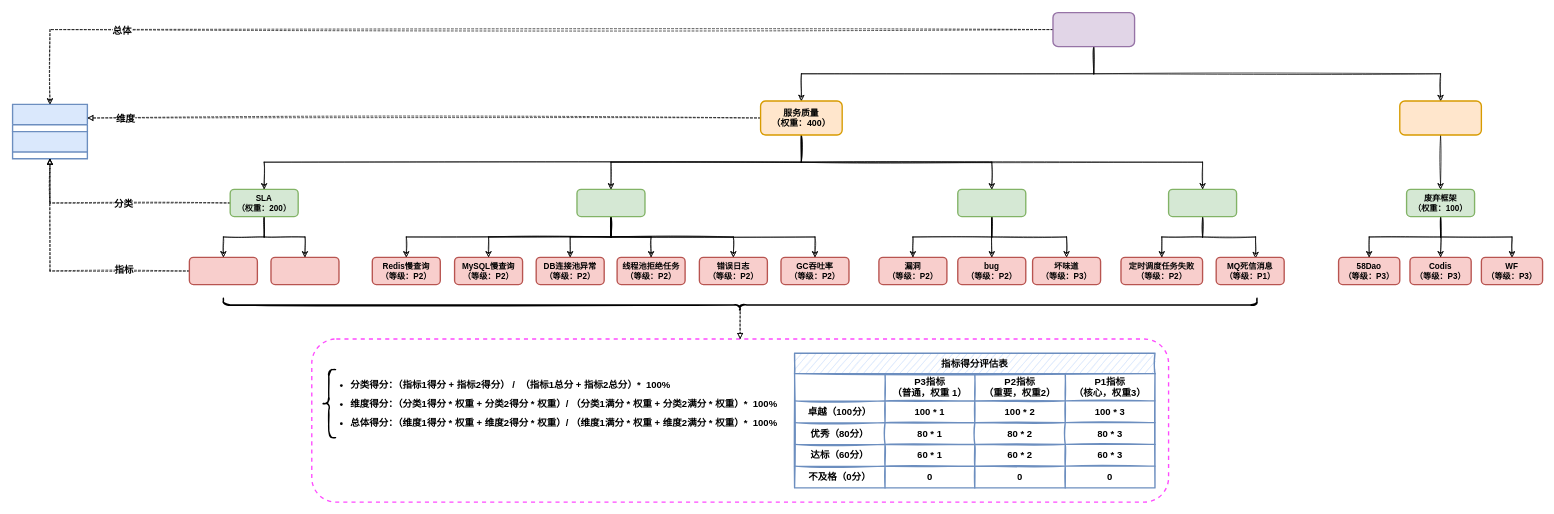
Image size: 1554x514. Some labels were removed from this diagram. Here are the shapes that lost their labels. From the top down, the centre of each, then its label:
pixel 1093 29: 服务数字化权重树
pixel 50 117: 服务得分
pixel 1440 117: 技术先进性 （权重：100）
pixel 50 145: 部门得分
pixel 610 202: 运行时 （权重：150）
pixel 991 202: 静态质量 （权重：100）
pixel 1202 202: 中间件 （权重：150）
pixel 223 270: 微服务成功率 （等级：P1）
pixel 304 270: web服务成功率 （等级：P1）
